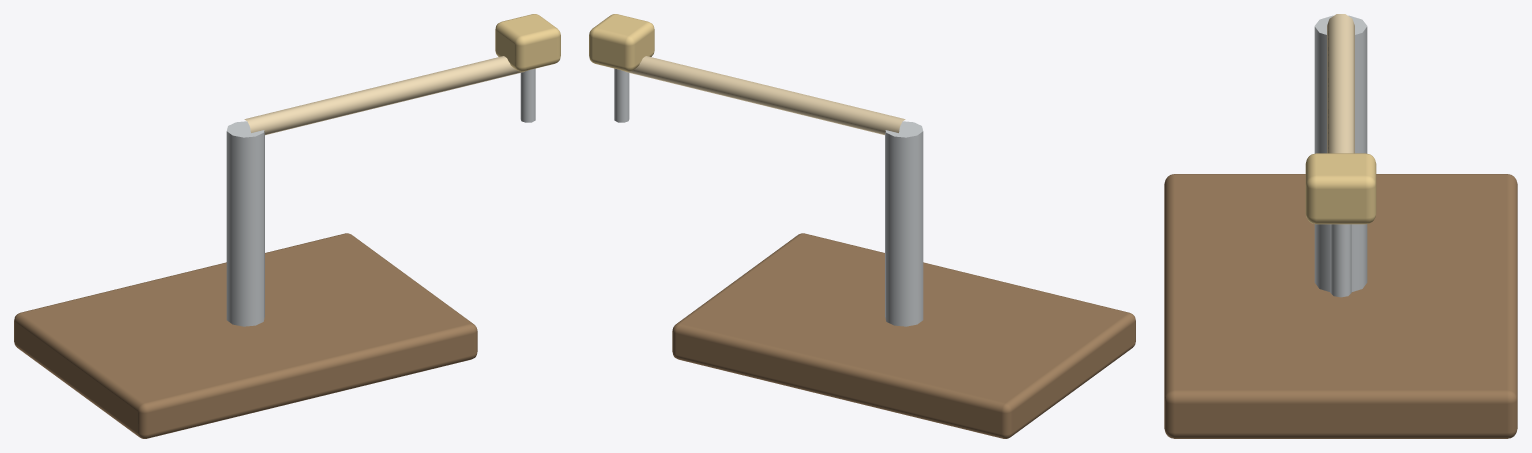
Rendered from marquetry-and-veneer-inlay-workshop-pivot-circle-cutti-a02983f0__39099.glb.
3 views of the same model, side by side, from view 1: azimuth 30°, elevation 25°; view 2: azimuth 150°, elevation 25°; view 3: azimuth 270°, elevation 25° (orthographic). The views are drawn at different scales.
Parts seen in each view (by area): view 1: pivot-circle-cutting-jig; view 2: pivot-circle-cutting-jig; view 3: pivot-circle-cutting-jig.
Boxes of the visible parts, x1=… form: pivot-circle-cutting-jig: x1=14, y1=14, x2=560, y2=438; pivot-circle-cutting-jig: x1=589, y1=14, x2=1135, y2=438; pivot-circle-cutting-jig: x1=1164, y1=14, x2=1517, y2=438.
Size of the model in its own units: 0.42 by 0.22 by 0.2.
